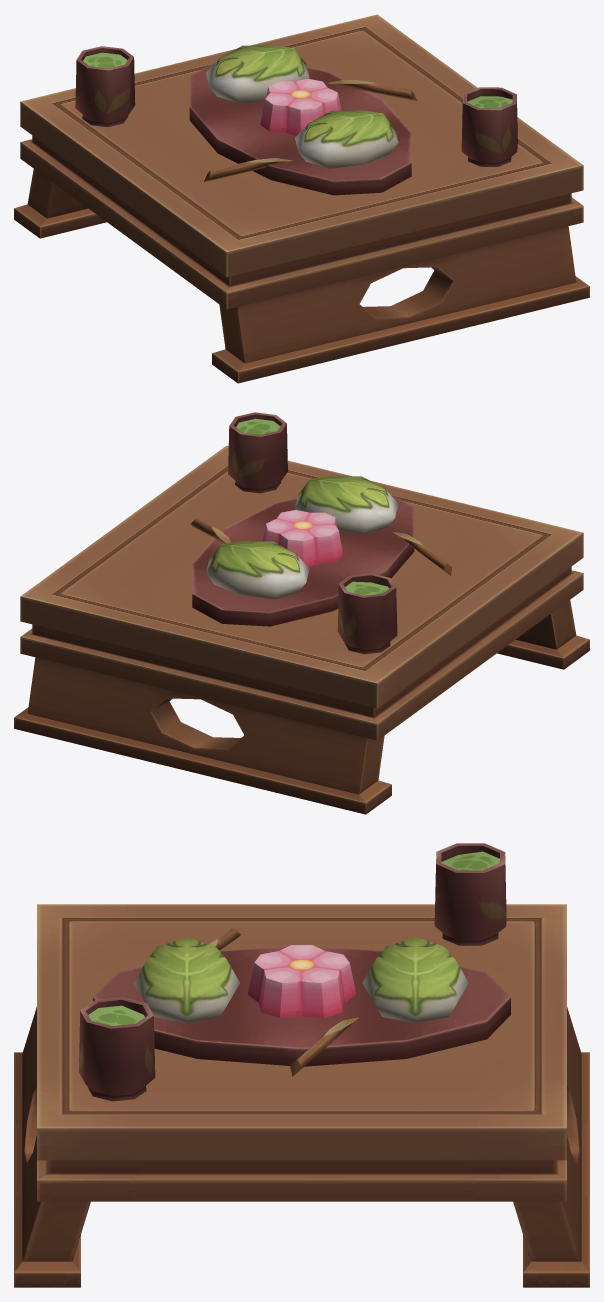
The model's file is my_hyakkiyako_01_table_04.glb.
3 renders of one model, top to bottom at view 1: azimuth 30°, elevation 25°; view 2: azimuth 150°, elevation 25°; view 3: azimuth 270°, elevation 25°, orthographic. The views are drawn at different scales.
Visible parts, largest first — view 1: my_hyakkiyako_01_table_04; view 2: my_hyakkiyako_01_table_04; view 3: my_hyakkiyako_01_table_04.
Boxes of the visible parts, bbox=[...] form: my_hyakkiyako_01_table_04: bbox=[14, 14, 589, 383]; my_hyakkiyako_01_table_04: bbox=[14, 412, 589, 814]; my_hyakkiyako_01_table_04: bbox=[14, 843, 589, 1287].
Size of the model in its own units: 0.00448 by 0.00221 by 0.00487.
1 material, 1 textured.
